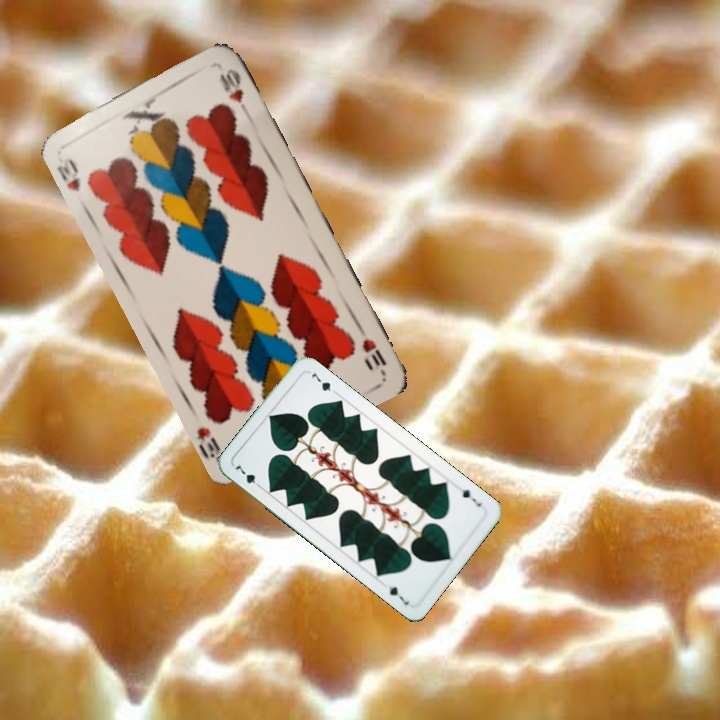G7: (230, 461, 265, 491), (458, 485, 484, 509)
H10: (353, 321, 390, 369), (53, 152, 83, 195)
